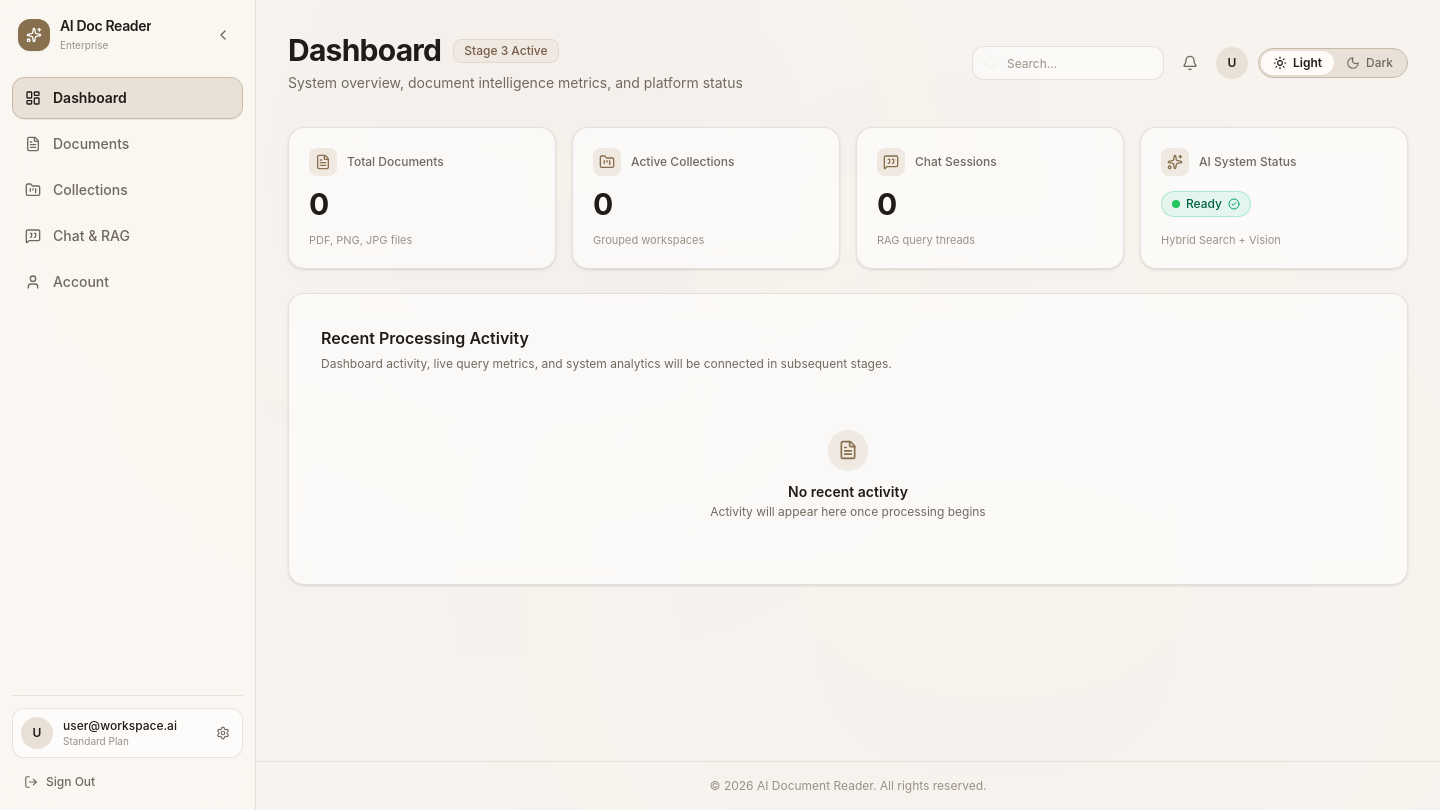
Test: AppShell and Navigation Routing › navigates to chat route when clicking Chat nav link
Click the link "Chat & RAG". click: [78, 236]
box: [25,227,130,244]
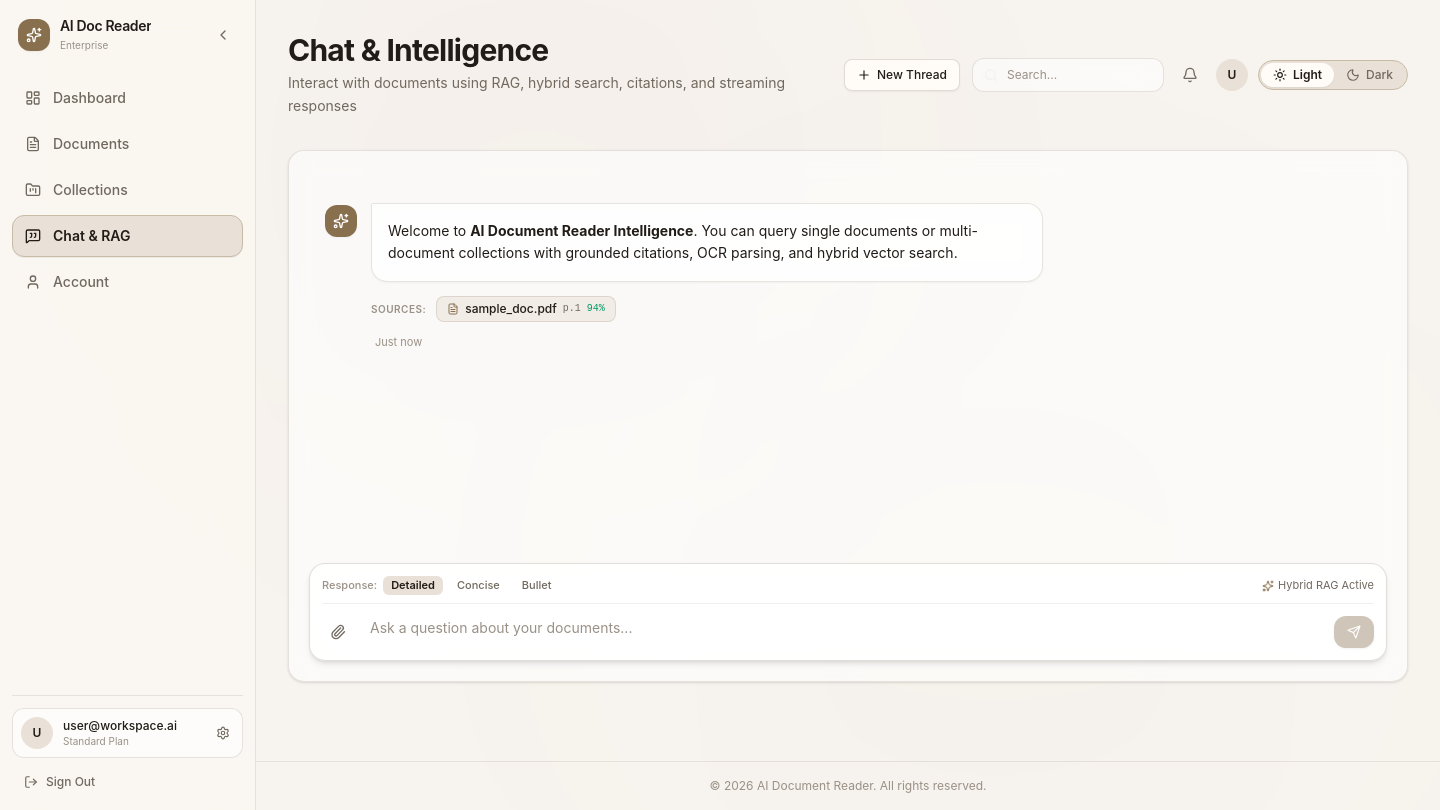
Result: the heading "Chat & Intelligence" is shown at [288,32,548,68]
